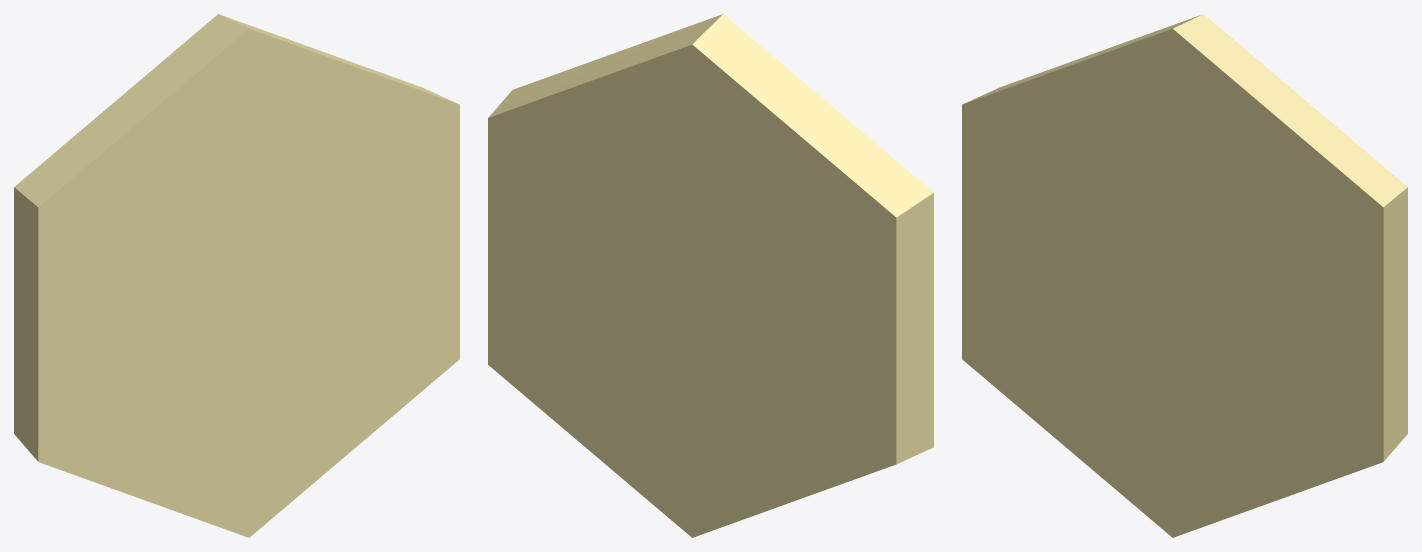
File: icing.obj
3 views of the same model, side by side, from view 1: azimuth 30°, elevation 25°; view 2: azimuth 150°, elevation 25°; view 3: azimuth 330°, elevation 25° (orthographic).
Parts seen in each view (by area): view 1: carrotBody; view 2: carrotBody; view 3: carrotBody.
Boxes of the visible parts, x1,y1,x2,y2 form: carrotBody: (14,14,459,537); carrotBody: (488,14,933,537); carrotBody: (962,14,1407,537).
Bounding box in the file's own units: 0.0346 × 0.0399 × 0.00439.
